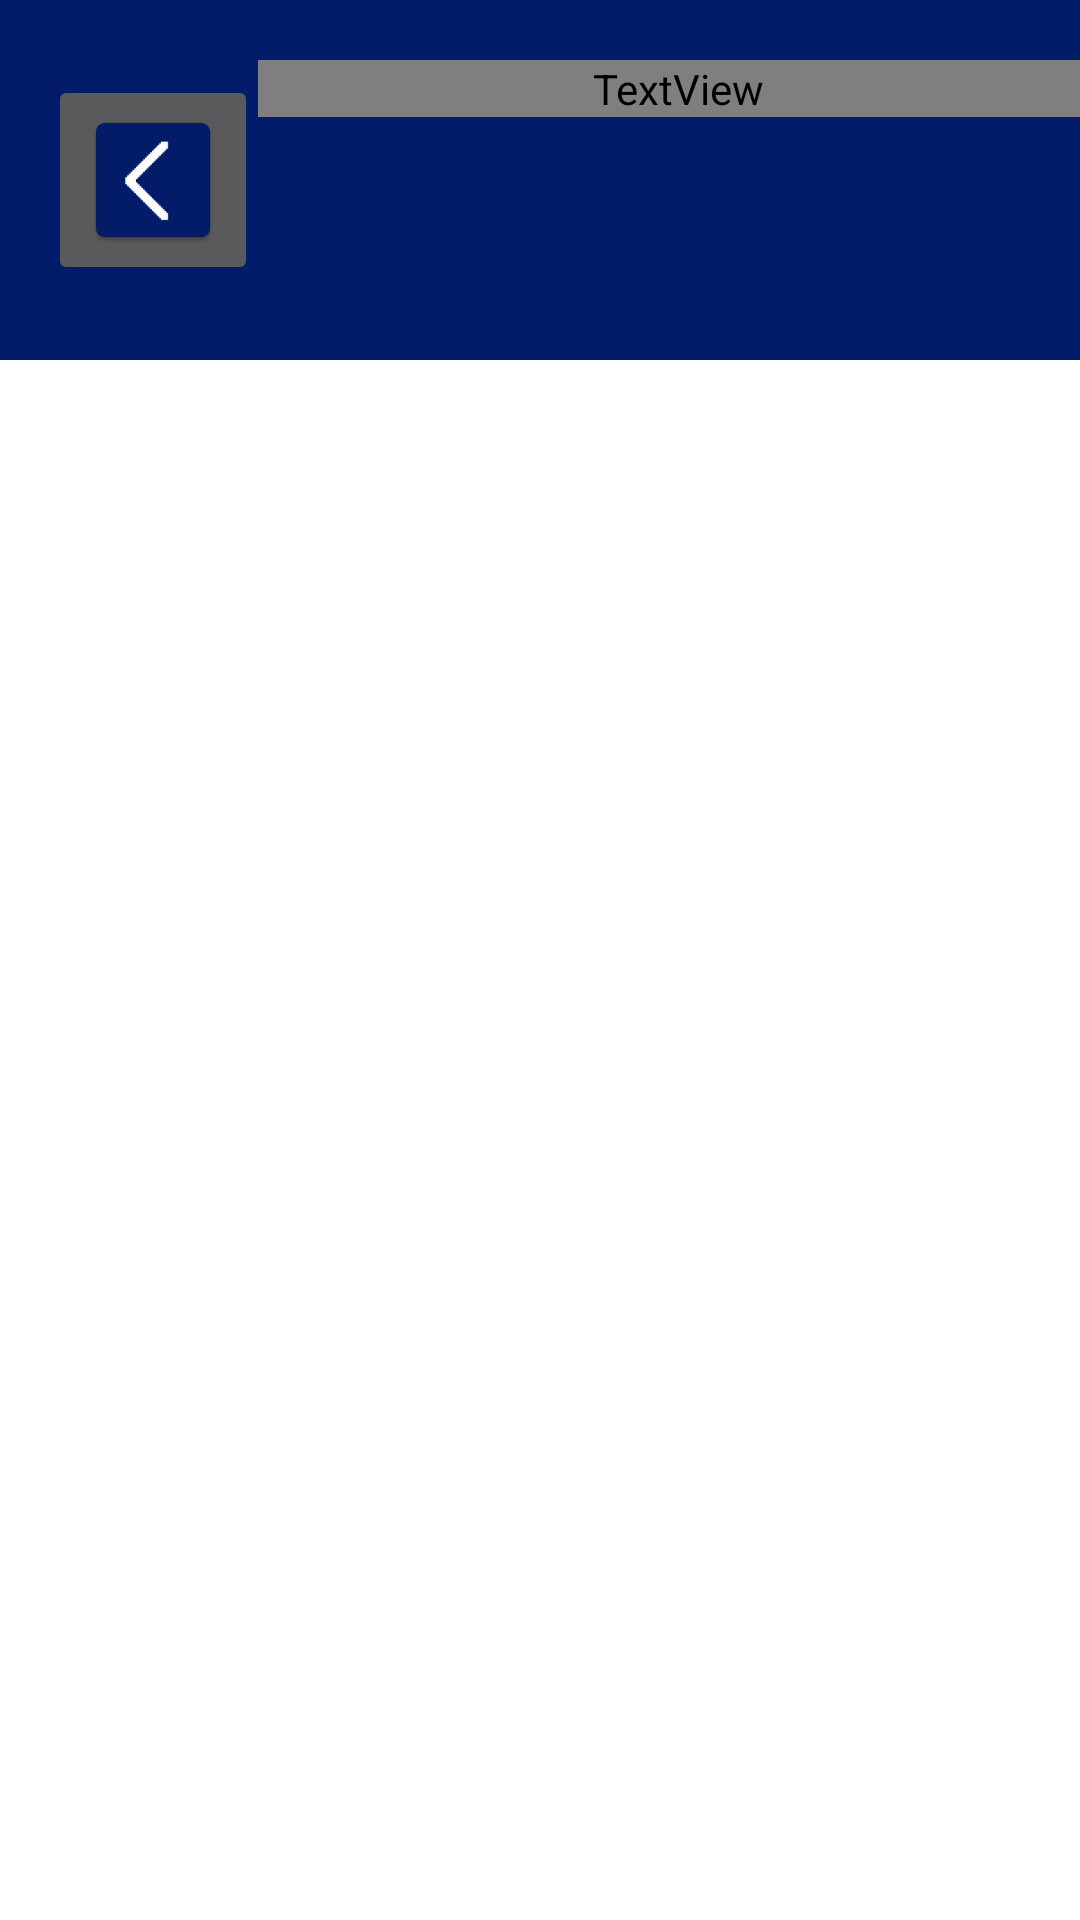

Screen size 1080px×1920px. Icon name, then its box in pixels as (x1, y1, x2, y2):
back: (60, 93, 246, 267)
